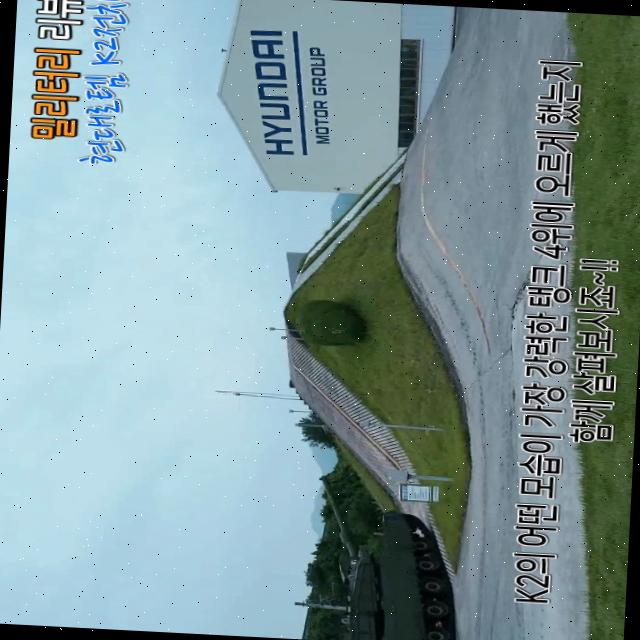korea tank: (303, 478, 461, 640)
